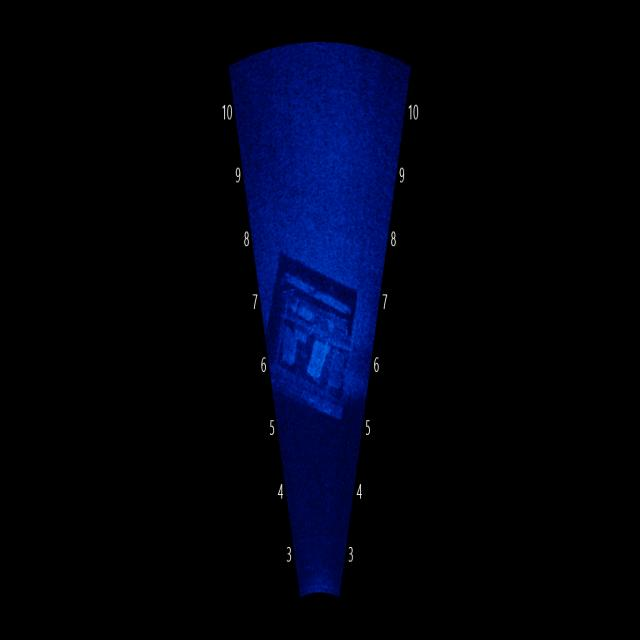square: (260, 241, 362, 425)
